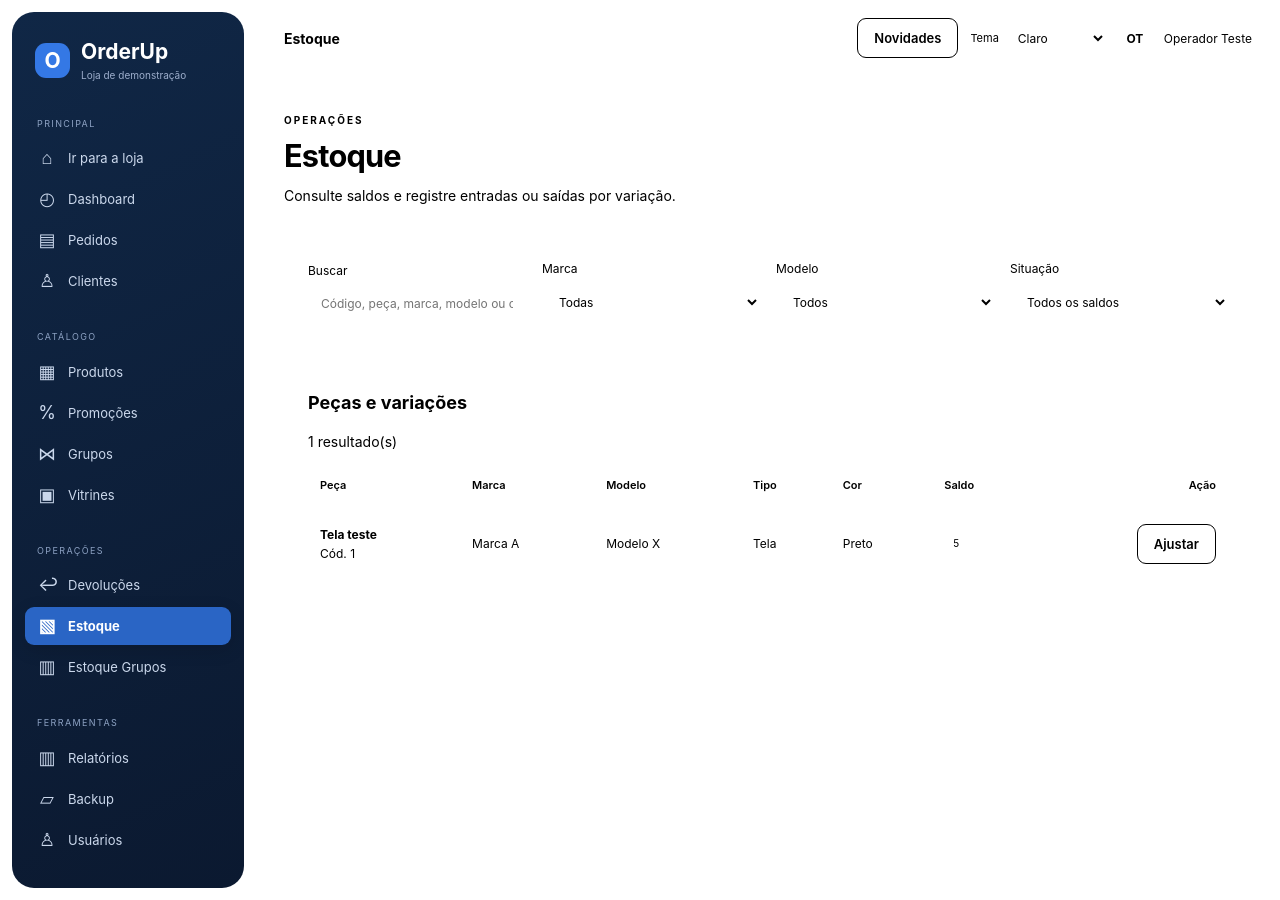
it: fase 5 · estoque › registra entrada de estoque por diferença
Expected: the text "Tela teste" is shown, [320,527,377,542]
Click the button "Ajustar". click: (1176, 544)
box: [1137,524,1216,564]
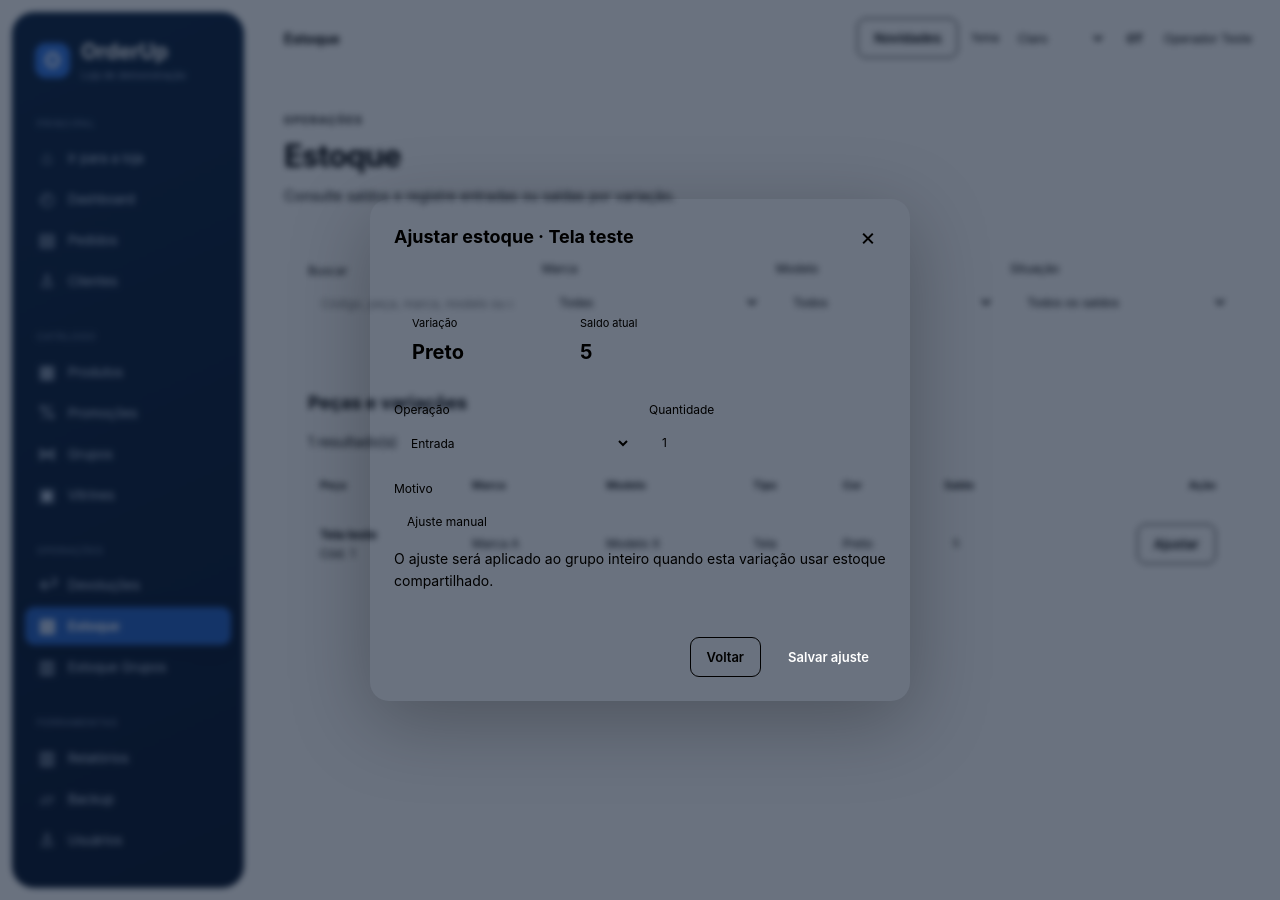
Replace the text in the number field labelled "Quantidade" with "3". click: (768, 442)
box: [649,424,886,461]
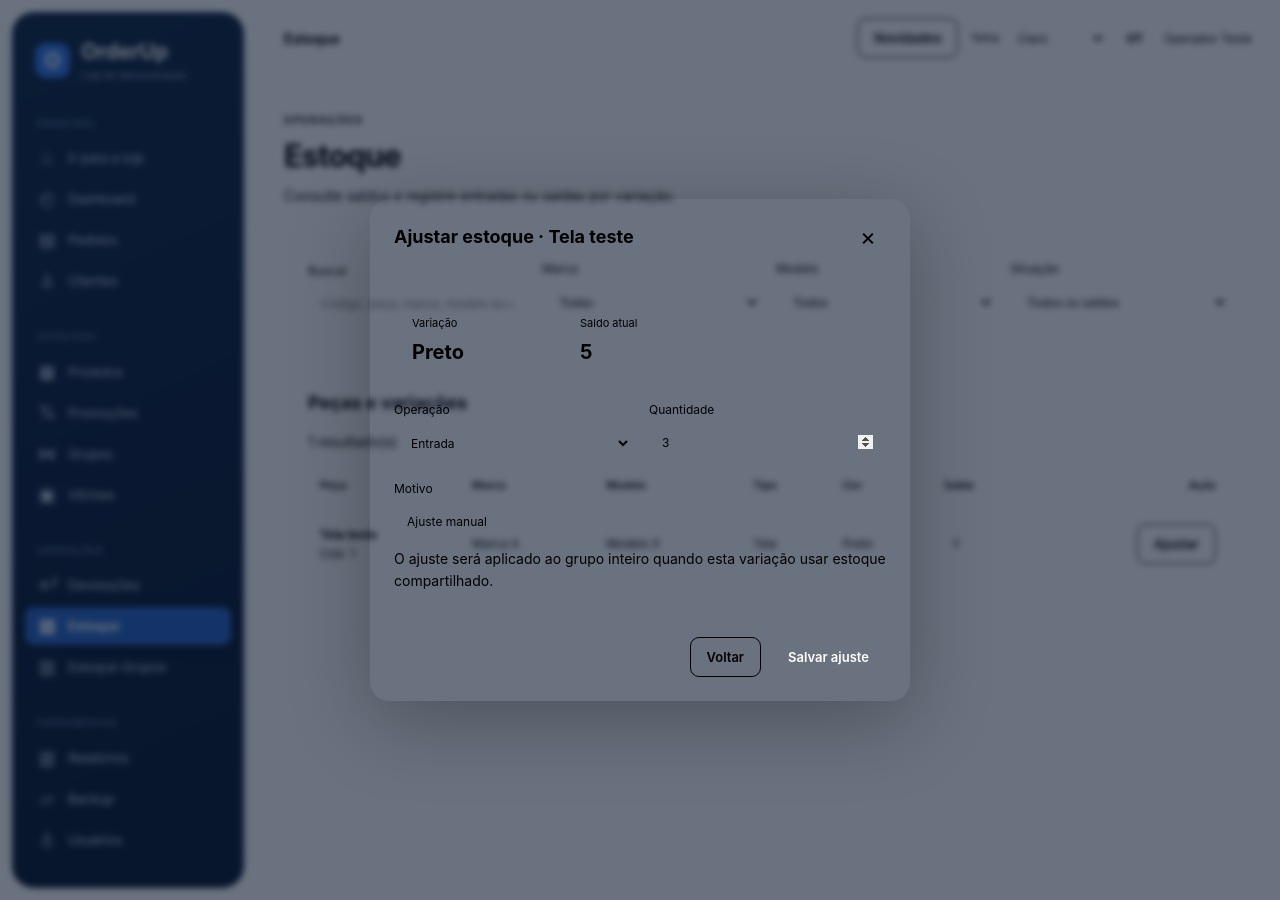
Click the button "Salvar ajuste". click: (828, 657)
box: [771,637,886,677]
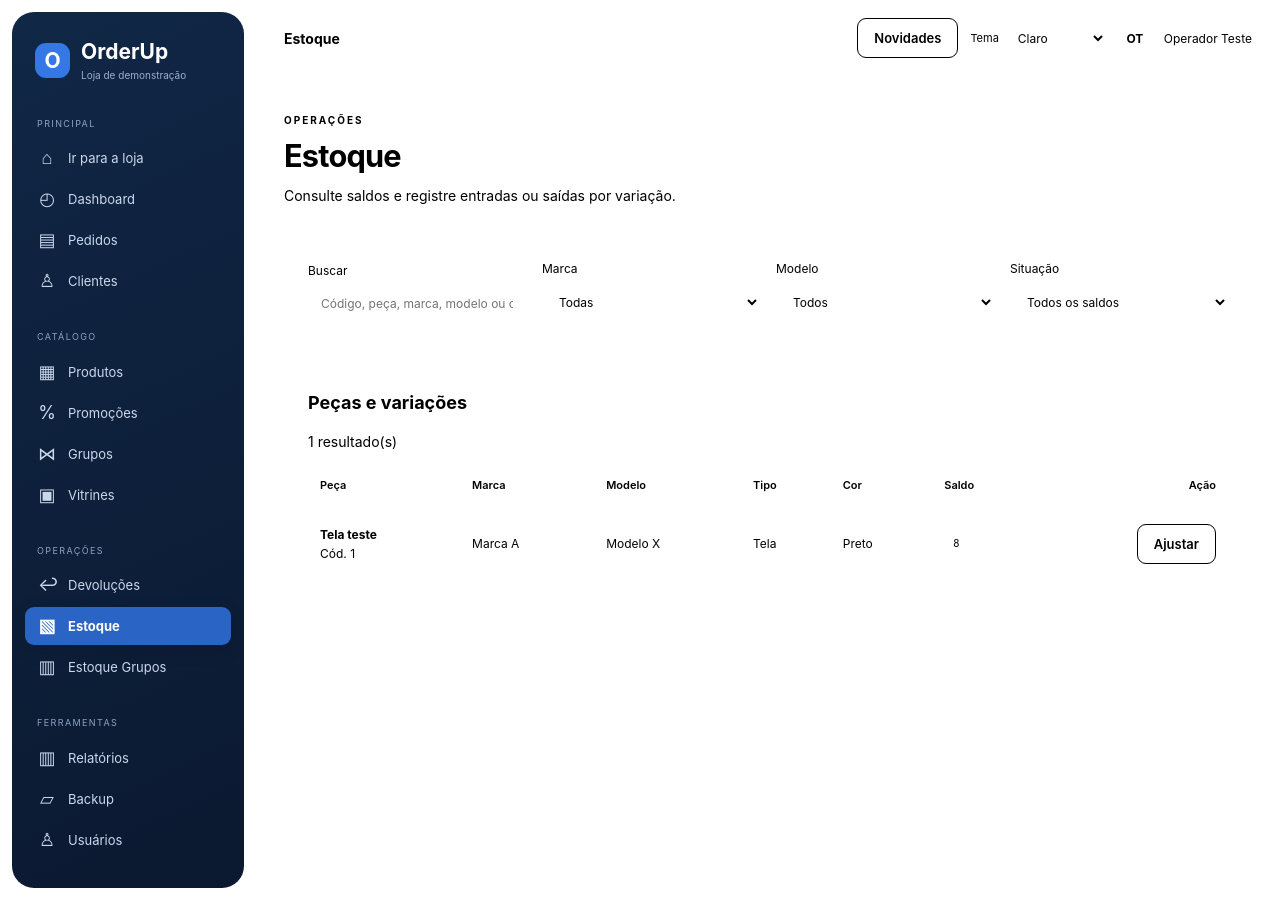
Expected: the text "8" is shown, [953,537,960,549]
